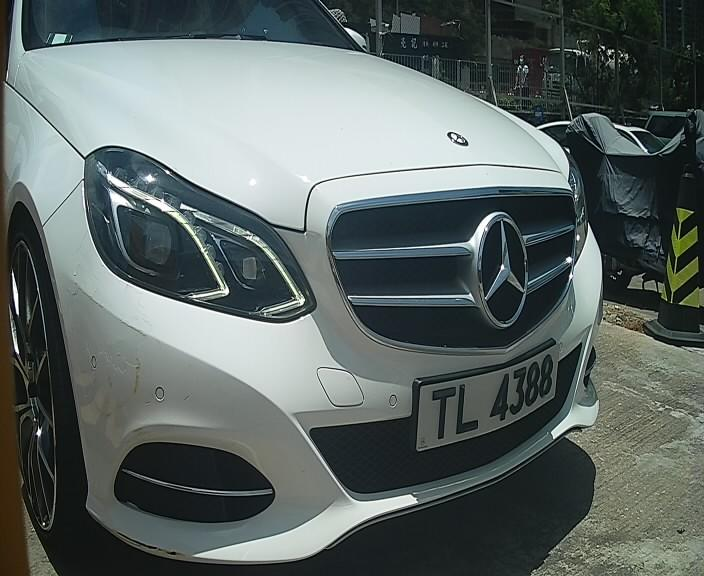License Plate: (397, 325, 584, 463)
